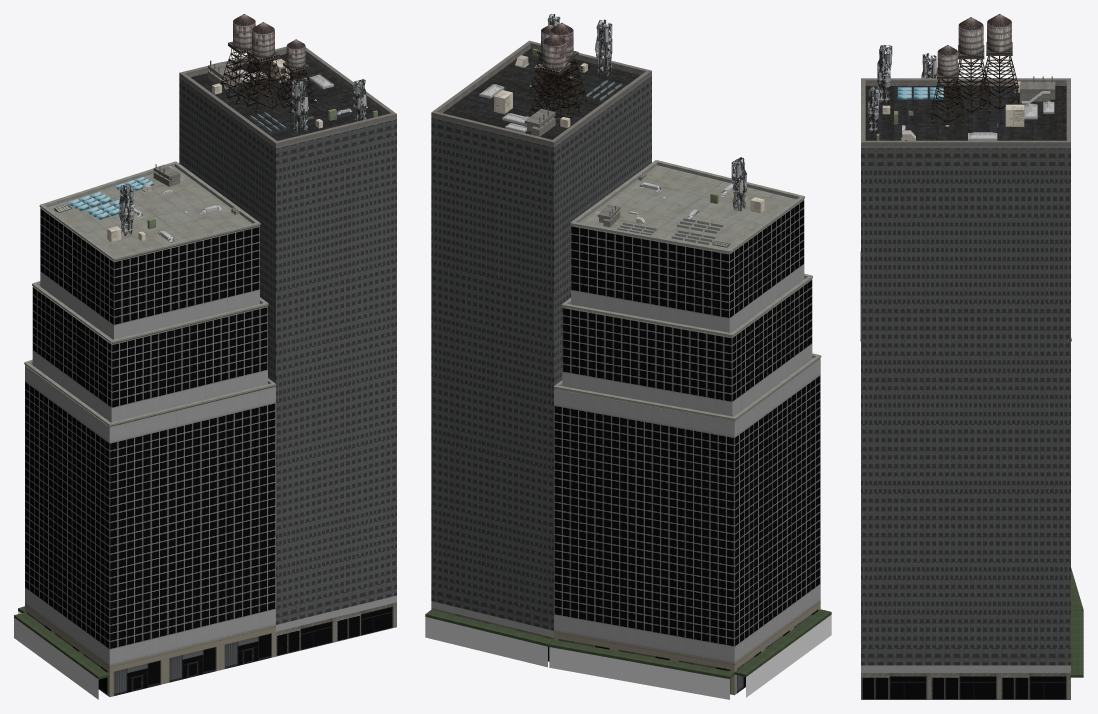
Rendered from building11.gltf.
3 renders of one model, left to right at view 1: azimuth 30°, elevation 25°; view 2: azimuth 150°, elevation 25°; view 3: azimuth 270°, elevation 25°, orthographic. The views are drawn at different scales.
Visible parts, largest first — view 1: Object_118.010, Object_99.039, Object_99.040, Object_99.038, Object_99.024, Object_99.012, Object_99.143; view 2: Object_118.010, Object_99.040, Object_99.039, Object_99.024, Object_99.012, Object_99.143; view 3: Object_118.010, Object_99.040, Object_99.039, Object_99.038, Object_99.143, Object_99.024, Object_67.008, Object_99.028, Object_99.034, Object_99.012.
Boxes of the visible parts, left/top/right/bottom form: Object_118.010: left=14, top=46, right=396, bottom=699; Object_99.039: left=238, top=22, right=288, bottom=112; Object_99.040: left=220, top=14, right=269, bottom=104; Object_99.038: left=275, top=39, right=316, bottom=113; Object_99.024: left=291, top=77, right=308, bottom=134; Object_99.012: left=119, top=184, right=134, bottom=235; Object_99.143: left=208, top=60, right=242, bottom=89; Object_118.010: left=425, top=40, right=831, bottom=699; Object_99.040: left=529, top=34, right=580, bottom=125; Object_99.039: left=536, top=23, right=587, bottom=114; Object_99.024: left=595, top=19, right=612, bottom=77; Object_99.012: left=731, top=157, right=746, bottom=211; Object_99.143: left=522, top=109, right=555, bottom=136; Object_118.010: left=860, top=78, right=1083, bottom=699; Object_99.040: left=979, top=14, right=1019, bottom=109; Object_99.039: left=950, top=17, right=991, bottom=112; Object_99.038: left=931, top=45, right=964, bottom=122; Object_99.143: left=1020, top=76, right=1055, bottom=103; Object_99.024: left=877, top=45, right=892, bottom=104; Object_67.008: left=897, top=87, right=943, bottom=99; Object_99.028: left=868, top=86, right=879, bottom=133; Object_99.034: left=1005, top=104, right=1024, bottom=126; Object_99.012: left=921, top=53, right=936, bottom=78.
Bounding box in the file's own units: 58.98 × 111 × 35.26.
32 materials, 22 textured.
